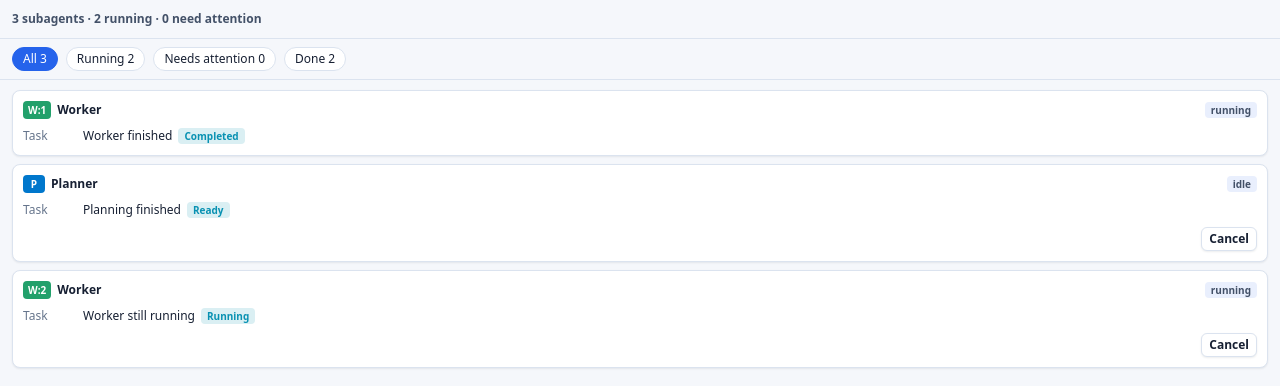
SubagentPanel › filters done agents from idle agents and terminal bound tasks
Click the button with test id "subagent-filter-done".
click(315, 59)  # box [284,47,346,71]
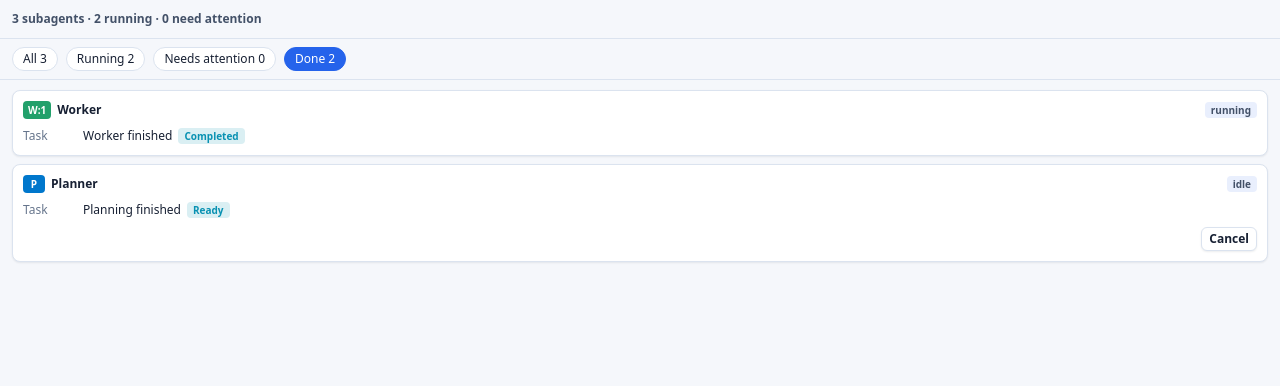
Expected: the text "Planning finished" is shown, [83,201,181,219]
Expected: the text "Worker still running" is gone
